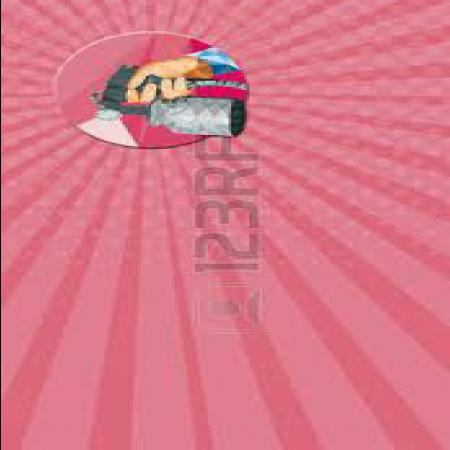Pistol: (91, 67, 181, 118)
